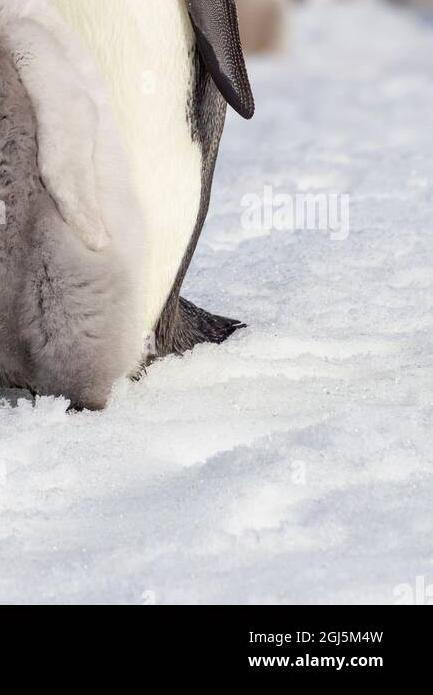Emperor Penguin: (0, 0, 346, 415)
